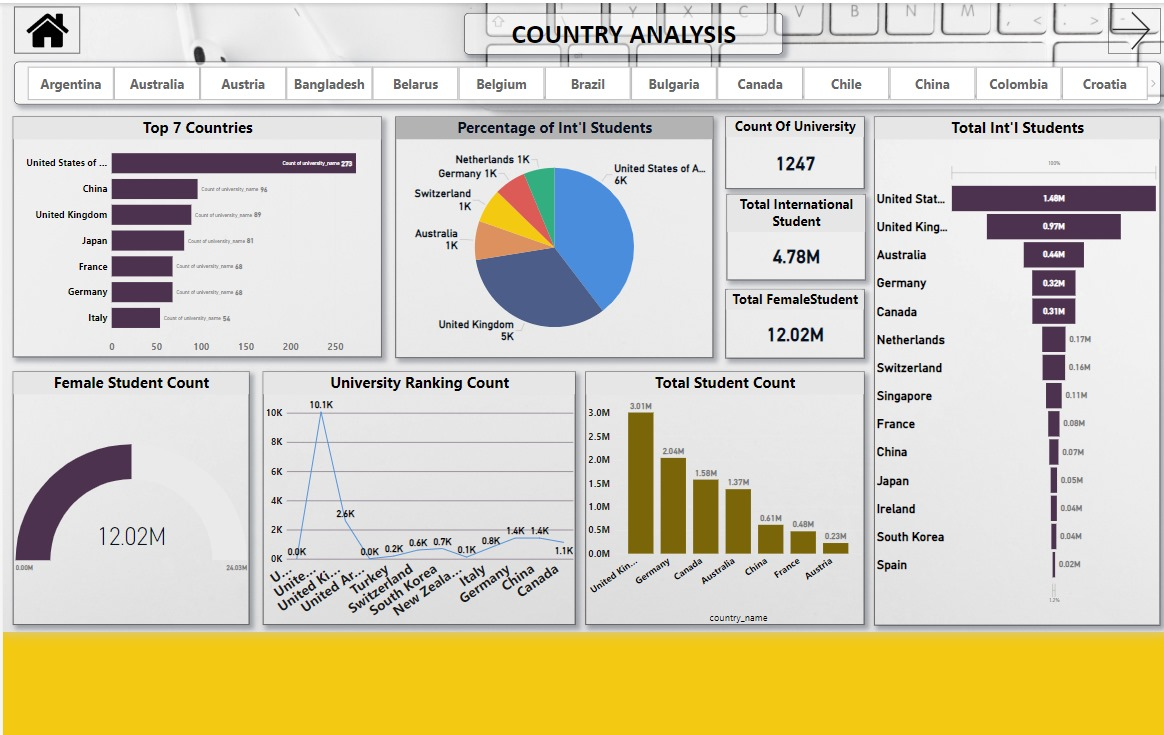

Layout of this report page (visuals, bound fields, positions):
{"tool":"powerbi","page":{"name":"Country Analysis","canvas":[2500,1350],"ordinal":1},"visuals":[{"type":"clusteredBarChart","title":"Top 7 Countries","fields":{"Category":["country.country_name"],"Y":["CountNonNull(university.university_name)"]},"box":[20.4,243,790.3,515.5],"z":0},{"type":"funnel","title":"Total Int''l Students","fields":{"Category":["country.country_name"],"Y":["Sum(university_year.Total_Int_Student)"]},"box":[1869.1,243,613.2,1090.1],"z":1000},{"type":"gauge","title":" Female Student Count ","fields":{"Y":["Sum(university_year.Total_female_student)"]},"box":[20.4,790.3,506.5,542.8],"z":2000},{"type":"lineChart","title":" University Ranking Count ","fields":{"Category":["country.country_name"],"Y":["CountNonNull(university_ranking_year.ranking_criteria_id)"]},"box":[556.4,790.3,670,542.8],"z":3000},{"type":"image","box":[25,9.1,140.8,99.9],"z":4000},{"type":"actionButton","box":[2368.7,11.4,113.6,97.7],"z":5000},{"type":"textbox","box":[990.2,20.4,683.6,88.6],"z":6000},{"type":"pieChart","title":"Percentage of Int''l Students ","fields":{"Category":["country.country_name"],"Y":["Sum(university_year.pct_international_students)"]},"box":[841.4,242.8,680.5,516.7],"z":7000},{"type":"clusteredColumnChart","title":"Total Student Count","fields":{"Category":["country.country_name"],"Y":["Sum(university_year.num_students)"]},"box":[1249.1,790.3,597.3,542.8],"z":8000},{"type":"card","title":"Count Of University","fields":{"Values":["Count(university.university_name)"]},"box":[1548.9,243,297.5,154.4],"z":9000},{"type":"card","title":"Total International Student","fields":{"Values":["Sum(university_year.Total_Int_Student)"]},"box":[1551.1,411.1,297.5,184],"z":10000},{"type":"card","title":"Total FemaleStudent","fields":{"Values":["Sum(university_year.Total_female_student)"]},"box":[1548.9,613.2,297.5,147.6],"z":11000},{"type":"slicer","title":"Select Country","fields":{"Values":["country.country_name"]},"box":[25,124.9,2457.3,90.8],"z":12001}]}

Visuals, with their boxes on the page's 2500x1350 design canvas (x1, y1, x2, y2). These are canvas units, not pixel positions in the 1164x735 screenshot, which may show the page scaled, cropped or inside an application window:
"Top 7 Countries" clusteredBarChart: select_region(20, 243, 811, 758)
"Total Int''l Students" funnel: select_region(1869, 243, 2482, 1333)
" Female Student Count " gauge: select_region(20, 790, 527, 1333)
" University Ranking Count " lineChart: select_region(556, 790, 1226, 1333)
image: select_region(25, 9, 166, 109)
actionButton: select_region(2369, 11, 2482, 109)
textbox: select_region(990, 20, 1674, 109)
"Percentage of Int''l Students " pieChart: select_region(841, 243, 1522, 760)
"Total Student Count" clusteredColumnChart: select_region(1249, 790, 1846, 1333)
"Count Of University" card: select_region(1549, 243, 1846, 397)
"Total International Student" card: select_region(1551, 411, 1849, 595)
"Total FemaleStudent" card: select_region(1549, 613, 1846, 761)
"Select Country" slicer: select_region(25, 125, 2482, 216)
